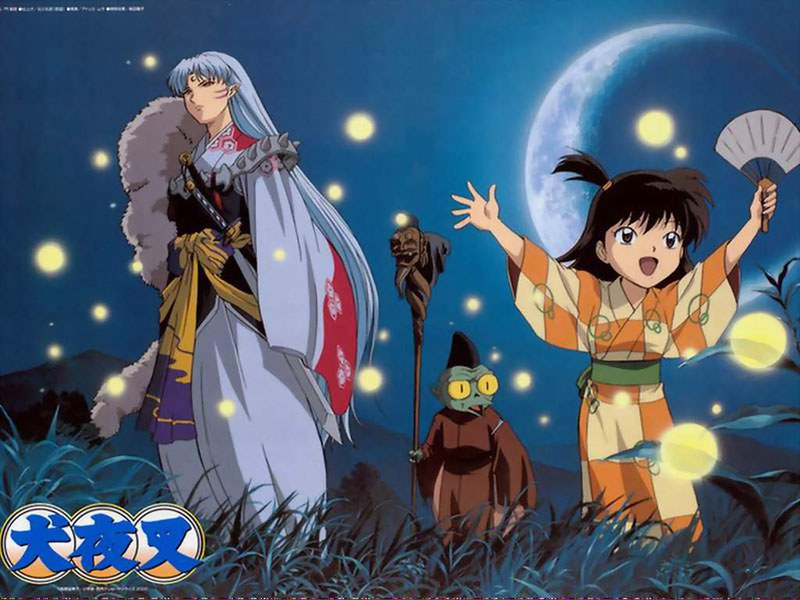sesshomaru: (143, 49, 281, 170)
